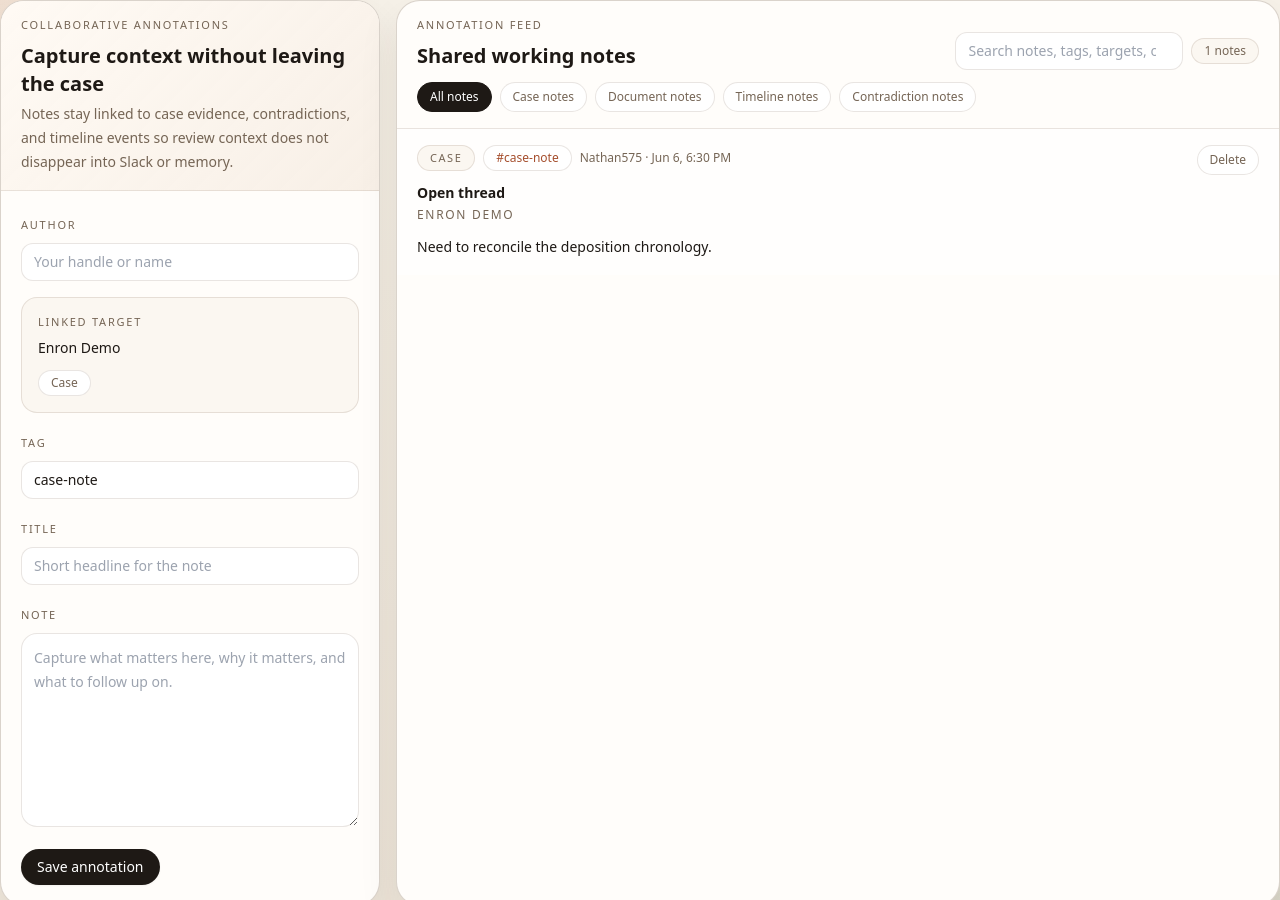
it: AnnotationsBoard › deletes an existing note from the feed
The image size is (1280, 900).
Expected: the text "Open thread" is shown, 417,183 -> 505,202
Click the button "Delete".
click(1228, 160)  # box 1196,144 -> 1259,174
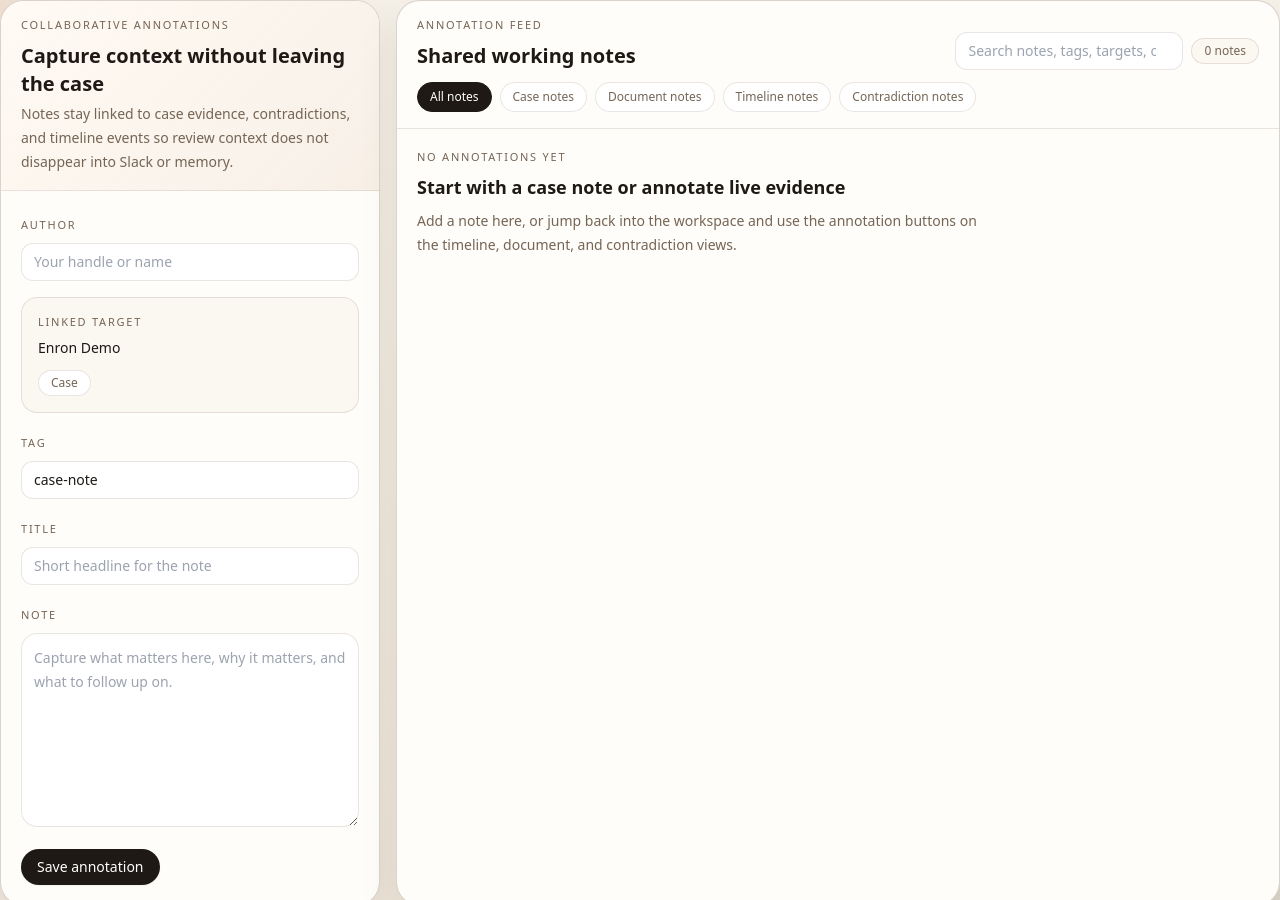
Expected: the text "Open thread" is gone
